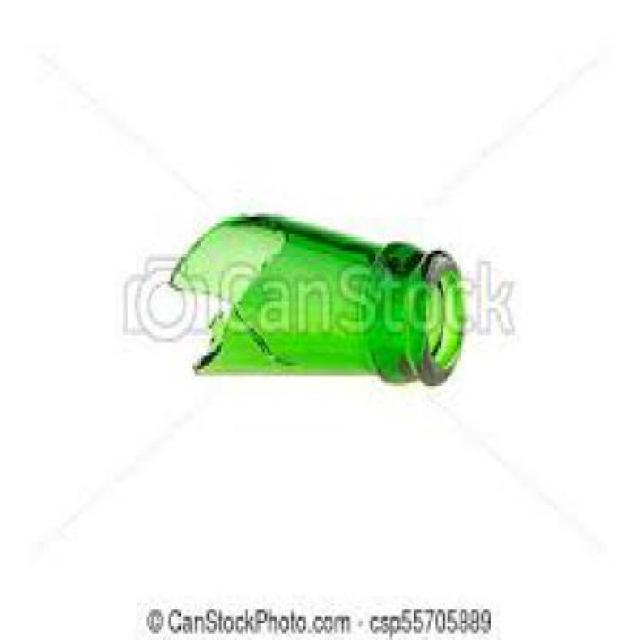kaca: (166, 209, 462, 386)
